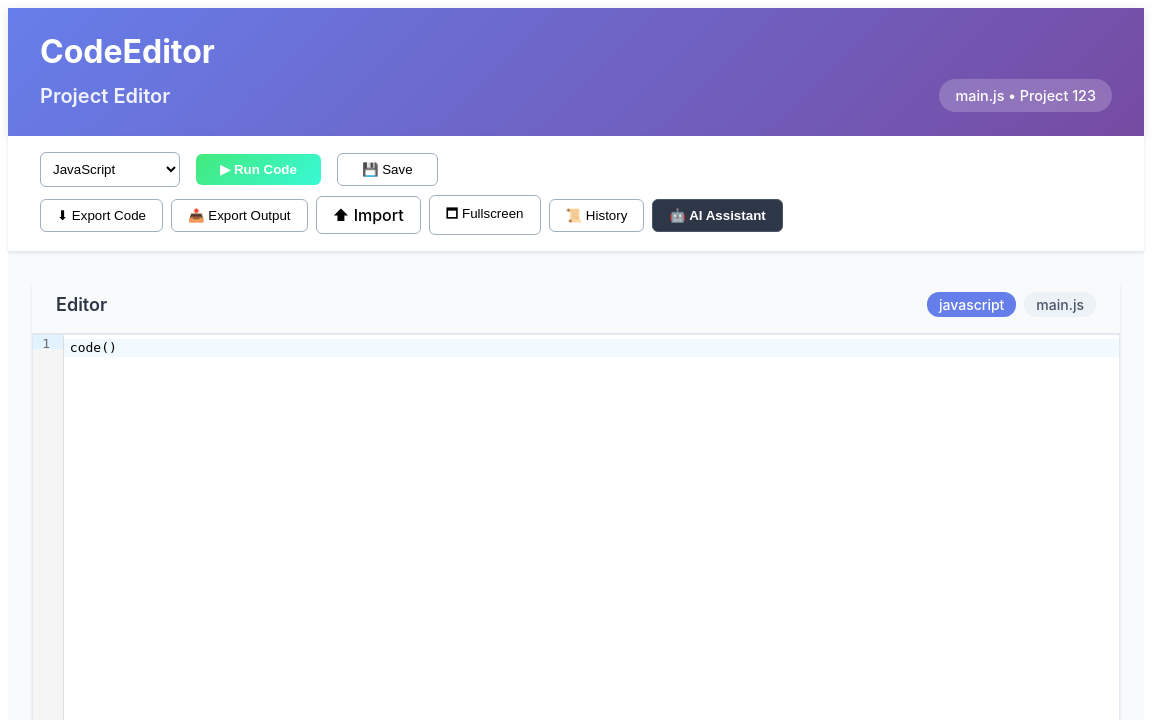
Scenario: Editor Component › handles save button click (existing file)
Click the button "💾 Save".
click(387, 170)  # box x1=337 y1=153 x2=438 y2=186
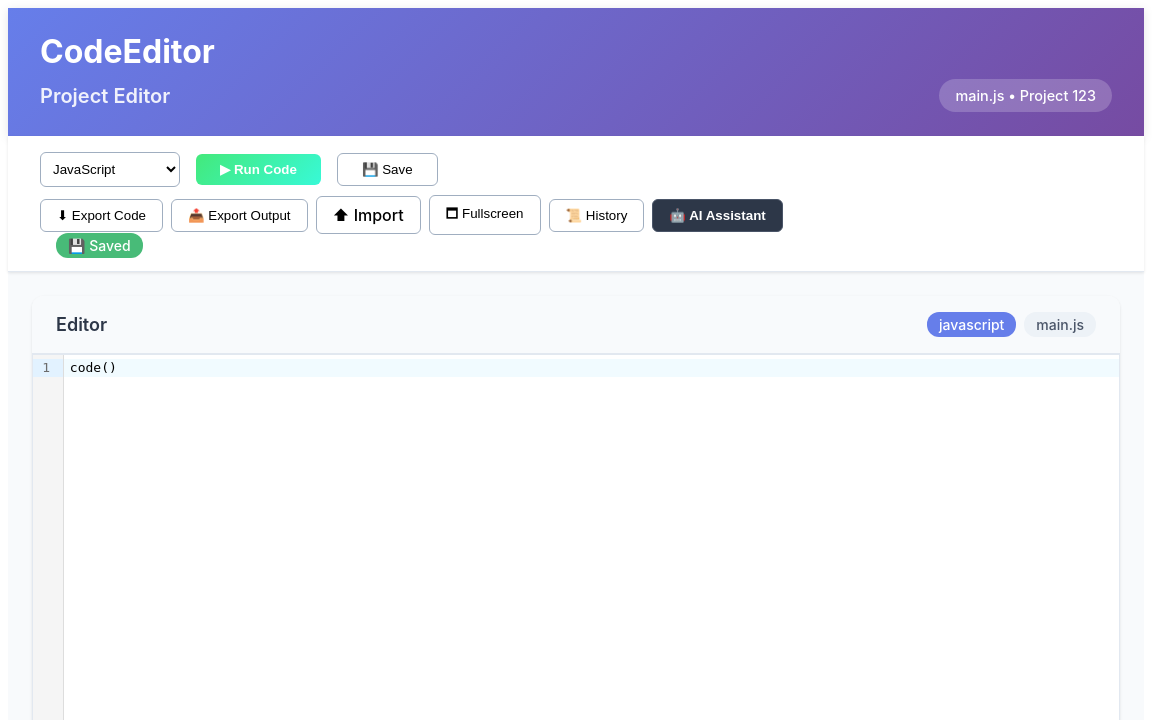
Check: the text "💾 Saved" is shown, box x1=56 y1=233 x2=143 y2=258
